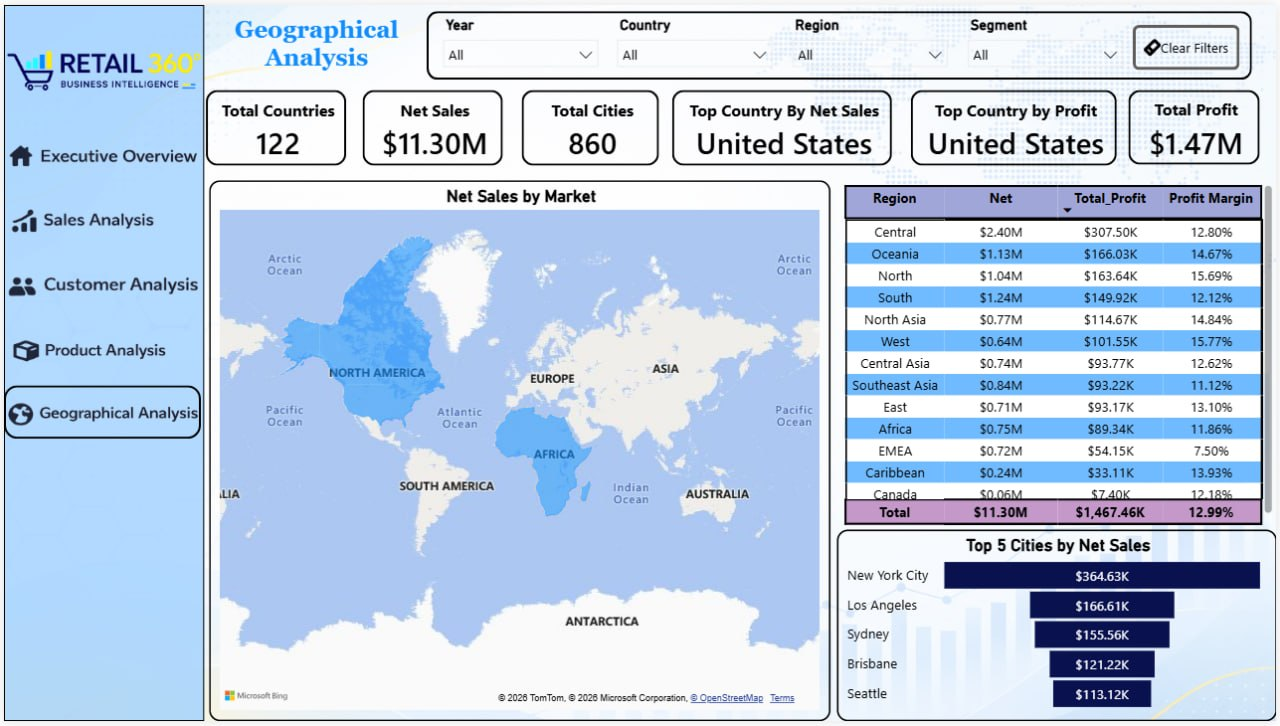

The page's visual inventory and layout, read from the dashboard file:
{"tool":"powerbi","page":{"name":"Geographical Analysis","canvas":[1280,720],"ordinal":4},"visuals":[{"type":"shape","box":[0,0,201.3,720],"z":0},{"type":"shape","box":[0,383,198,53.6],"z":1000},{"type":"image","box":[0,13.7,201.3,105.8],"z":2000},{"type":"image","box":[-0.3,120.5,201.3,64.7],"z":3000},{"type":"image","box":[-0.3,185.1,201.3,64.7],"z":4000},{"type":"image","box":[-0.3,249.8,201.3,64.7],"z":5000},{"type":"image","box":[-0.3,379.1,201.3,64.7],"z":6000},{"type":"image","box":[-0.3,314.4,201.3,64.7],"z":7000},{"type":"shape","box":[425.5,6.8,829.8,68.9],"z":8000},{"type":"slicer","fields":{"Values":["Customer.Country"]},"box":[606.7,6.8,176.4,68.9],"z":9000},{"type":"slicer","fields":{"Values":["DateTable.Year"]},"box":[430.7,6.8,176.3,57.3],"z":10000},{"type":"slicer","fields":{"Values":["Customer.Region"]},"box":[782.7,6.8,176.4,68.9],"z":11000},{"type":"slicer","fields":{"Values":["Customer.Segment"]},"box":[958.7,6.8,176.4,68.9],"z":12000},{"type":"actionButton","box":[1134.7,20.5,107.5,45.4],"z":13000},{"type":"cardVisual","fields":{"Data":["Measure_Table.Net"]},"box":[344.4,68.9,175,110],"z":14000},{"type":"cardVisual","fields":{"Data":["Project_Measures.Total Cities"]},"box":[503.9,68.9,172.5,110],"z":15000},{"type":"cardVisual","fields":{"Data":["Min(Customer.Country)"]},"box":[895.3,68.9,241.2,110],"z":16000},{"type":"cardVisual","fields":{"Data":["Project_Measures.Total_Profit"]},"box":[1113.7,68.9,166.3,109.2],"z":17000},{"type":"cardVisual","fields":{"Data":["Min(Customer.Country)"]},"box":[655.1,68.9,255.3,110],"z":18000},{"type":"cardVisual","fields":{"Data":["Measure_Table.Total Contries"]},"box":[186.5,68.9,175,110],"z":19000},{"type":"textbox","box":[216.1,6.5,196.4,73.7],"z":20000},{"type":"filledMap","title":"Net Sales by Market","fields":{"Category":["Geography.Market Hierarchy.Market","Geography.Market Hierarchy.Region","Geography.Market Hierarchy.Country","Geography.Market Hierarchy.State","Geography.Market Hierarchy.City","Geography.Market Hierarchy.Postal Code"]},"box":[206.6,176.4,624.9,544.3],"z":21000},{"type":"tableEx","fields":{"Values":["Customer.Region","Project_Measures.Net","Project_Measures.Total_Profit","Project_Measures.Profit Margin"]},"box":[838.2,176.4,441.8,351.1],"z":22000},{"type":"funnel","title":"Top 5 Cities by Net Sales","fields":{"Category":["Customer.City"],"Y":["Project_Measures.Net"]},"box":[838,527,442,193],"z":23000}]}

Visuals, with their boxes in screenshot pixels (x1, y1, x2, y2), scaled from the page's 1280x720 canvas onto the 1280x726 screenshot:
shape: [x1=0, y1=0, x2=201, y2=725]
shape: [x1=0, y1=386, x2=198, y2=440]
image: [x1=0, y1=14, x2=201, y2=120]
image: [x1=0, y1=122, x2=201, y2=187]
image: [x1=0, y1=187, x2=201, y2=252]
image: [x1=0, y1=252, x2=201, y2=317]
image: [x1=0, y1=382, x2=201, y2=447]
image: [x1=0, y1=317, x2=201, y2=382]
shape: [x1=426, y1=7, x2=1255, y2=76]
slicer - Customer.Country: [x1=607, y1=7, x2=783, y2=76]
slicer - DateTable.Year: [x1=431, y1=7, x2=607, y2=65]
slicer - Customer.Region: [x1=783, y1=7, x2=959, y2=76]
slicer - Customer.Segment: [x1=959, y1=7, x2=1135, y2=76]
actionButton: [x1=1135, y1=21, x2=1242, y2=66]
cardVisual - Measure_Table.Net: [x1=344, y1=69, x2=519, y2=180]
cardVisual - Project_Measures.Total Cities: [x1=504, y1=69, x2=676, y2=180]
cardVisual - Min(Customer.Country): [x1=895, y1=69, x2=1136, y2=180]
cardVisual - Project_Measures.Total_Profit: [x1=1114, y1=69, x2=1279, y2=180]
cardVisual - Min(Customer.Country): [x1=655, y1=69, x2=910, y2=180]
cardVisual - Measure_Table.Total Contries: [x1=186, y1=69, x2=362, y2=180]
textbox: [x1=216, y1=7, x2=412, y2=81]
"Net Sales by Market" filledMap: [x1=207, y1=178, x2=832, y2=725]
tableEx - Customer.Region x Project_Measures.Net: [x1=838, y1=178, x2=1279, y2=532]
"Top 5 Cities by Net Sales" funnel: [x1=838, y1=531, x2=1279, y2=725]
